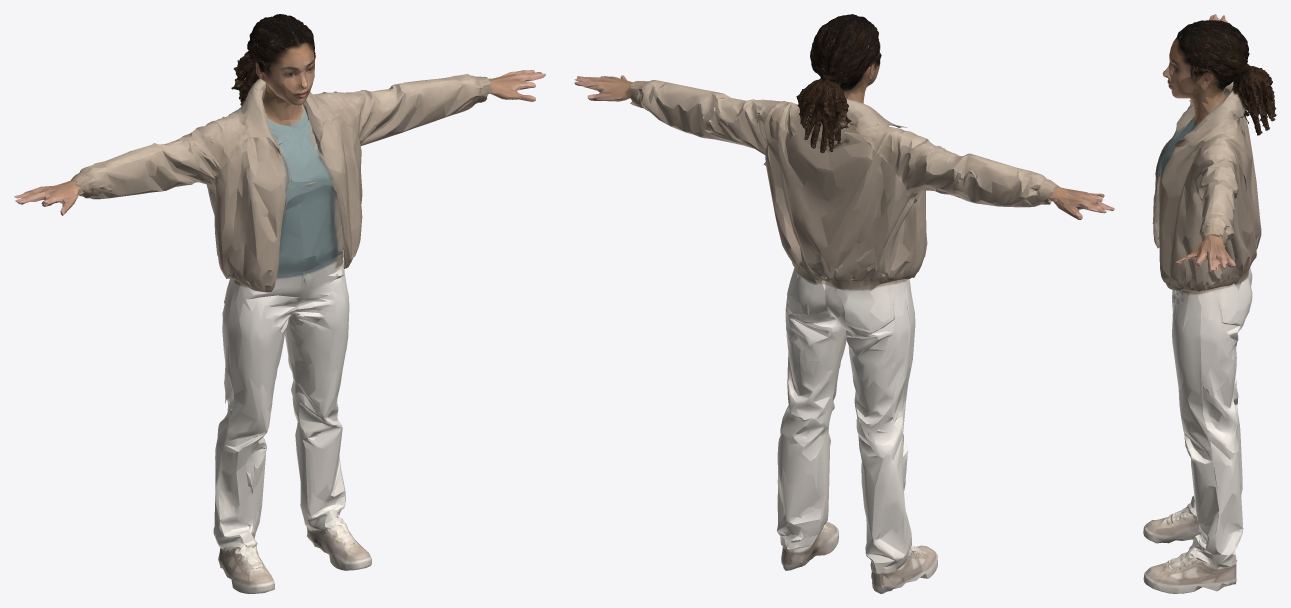
File: character_n11_optimized.glb
3 renders of one model, left to right at view 1: azimuth 30°, elevation 25°; view 2: azimuth 150°, elevation 25°; view 3: azimuth 270°, elevation 25°, orthographic. The views are drawn at different scales.
Parts seen in each view (by area): view 1: output_unwrapped; view 2: output_unwrapped; view 3: output_unwrapped.
Part boxes in pixels (x1,y1,x2,y2): output_unwrapped: (14, 14, 545, 593); output_unwrapped: (574, 14, 1114, 593); output_unwrapped: (1143, 14, 1276, 593).
Size of the model in its own units: 1.89 by 1.85 by 0.4155.
1 material, 1 textured.
